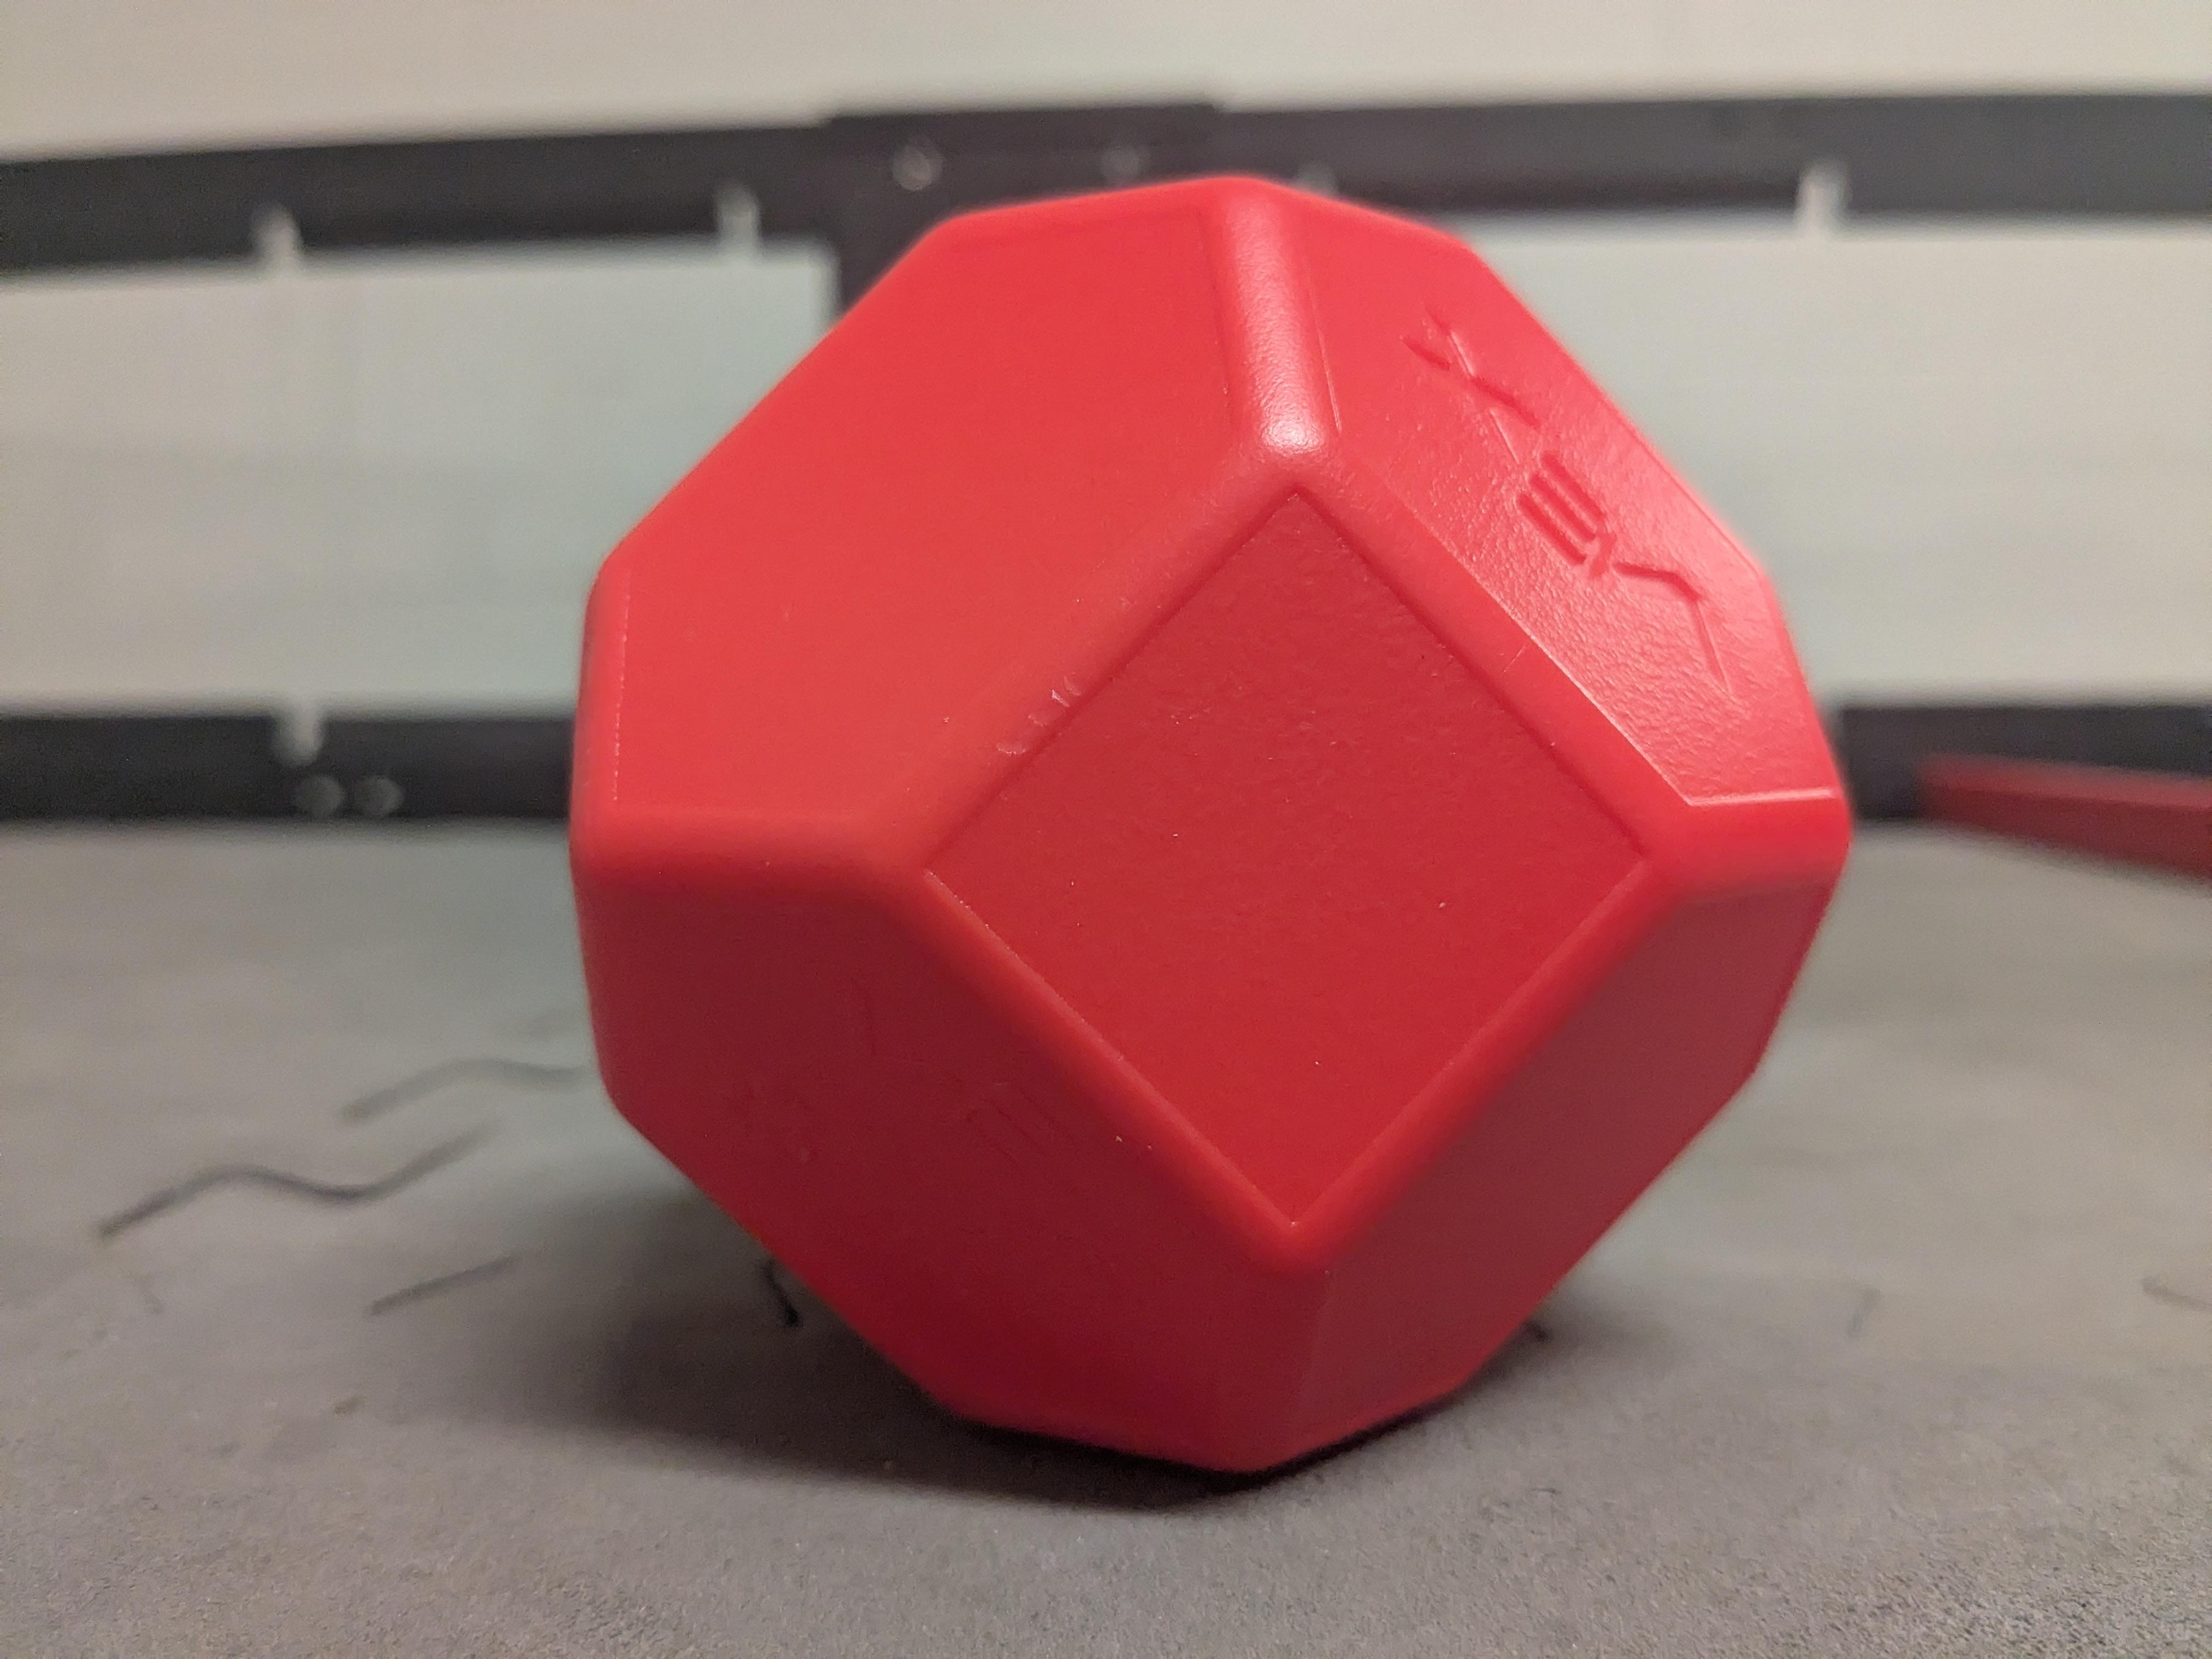Vex-Pieces-RED: (573, 179, 1850, 1469)
